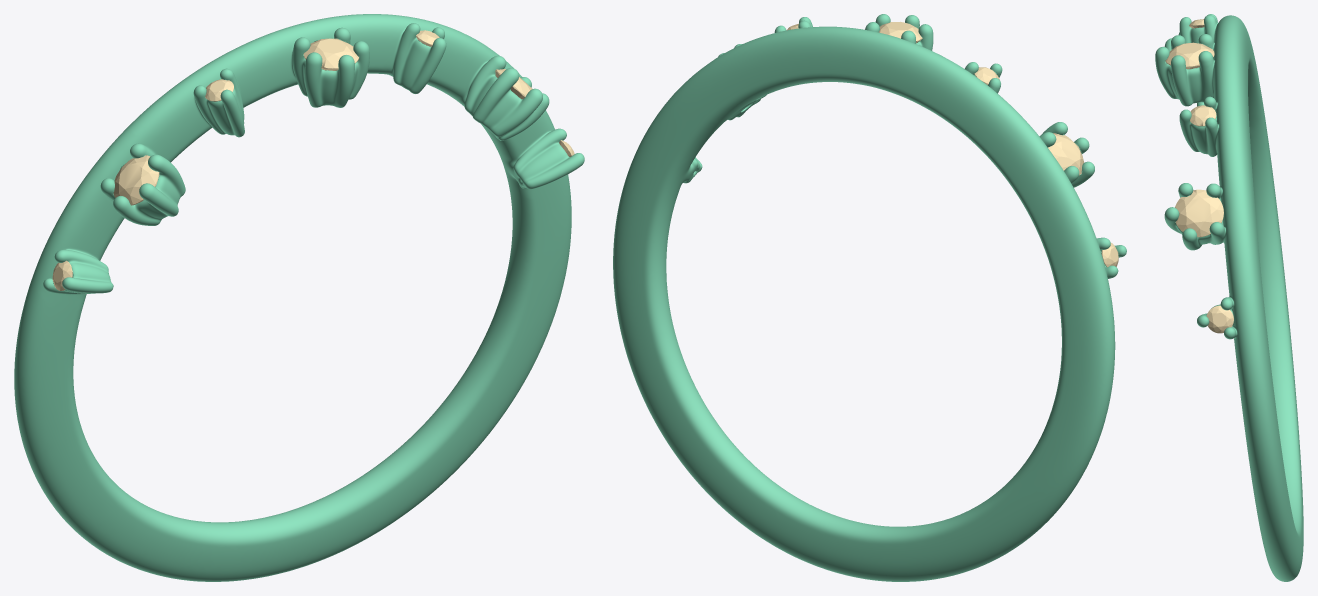
The picture shows the model from 3 angles, left to right: view 1: azimuth 30°, elevation 25°; view 2: azimuth 150°, elevation 25°; view 3: azimuth 270°, elevation 25°; orthographic projection. The views are drawn at different scales.
Visible parts, largest first — view 1: Metal02, Diamond_Round.006, Diamond_Round; view 2: Metal02, Diamond_Round.006; view 3: Metal02, Diamond_Round.003, Diamond_Round, Diamond_Round.002, Diamond_Round.001.
Boxes of the visible parts, left/top/right/bottom form: Metal02: left=14, top=14, right=584, bottom=581; Diamond_Round.006: left=113, top=155, right=159, bottom=205; Diamond_Round: left=303, top=38, right=359, bottom=70; Metal02: left=613, top=14, right=1126, bottom=581; Diamond_Round.006: left=1048, top=133, right=1084, bottom=175; Metal02: left=1155, top=14, right=1303, bottom=581; Diamond_Round.003: left=1175, top=189, right=1223, bottom=237; Diamond_Round: left=1165, top=42, right=1214, bottom=69; Diamond_Round.002: left=1206, top=305, right=1233, bottom=333; Diamond_Round.001: left=1190, top=105, right=1216, bottom=126.
Bounding box in the file's own units: 20.5 × 20.38 × 5.34.
